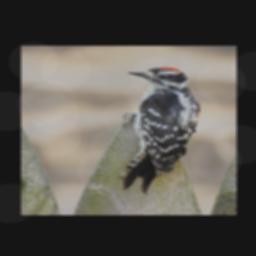Woodpecker: (123, 66, 204, 194)
